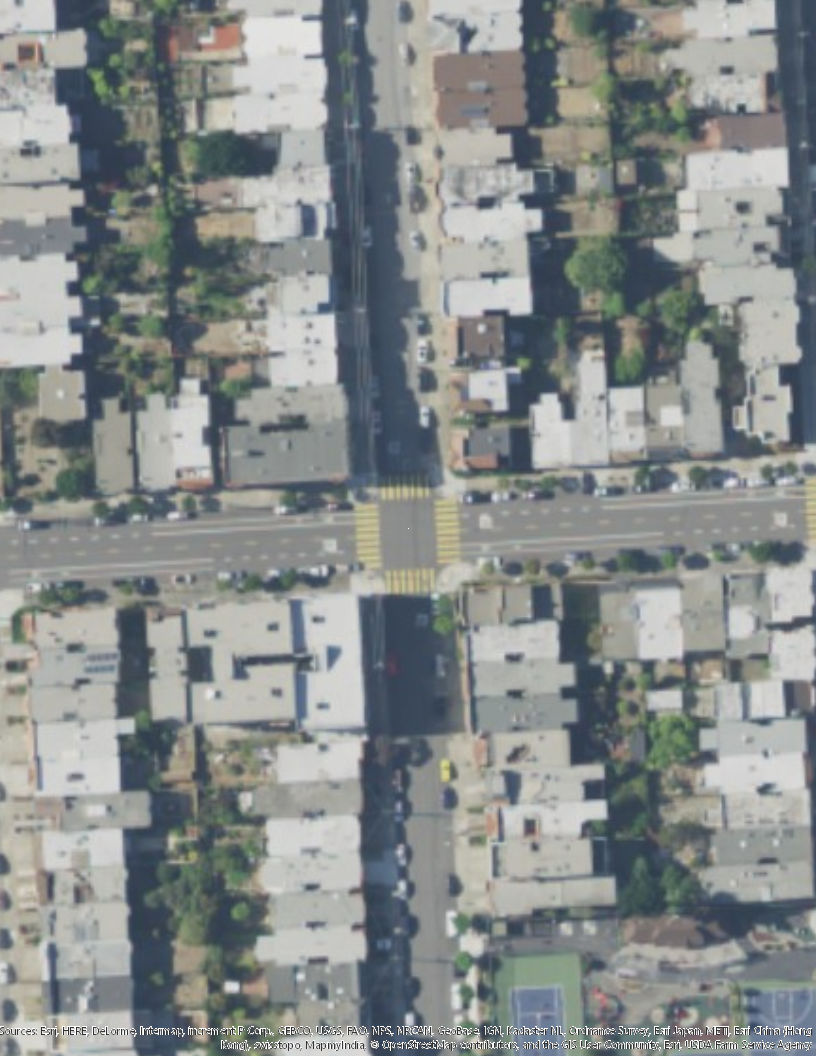zebracross: (434, 502, 464, 567), (356, 503, 382, 572), (378, 474, 432, 501), (385, 570, 438, 595), (803, 478, 816, 539)
